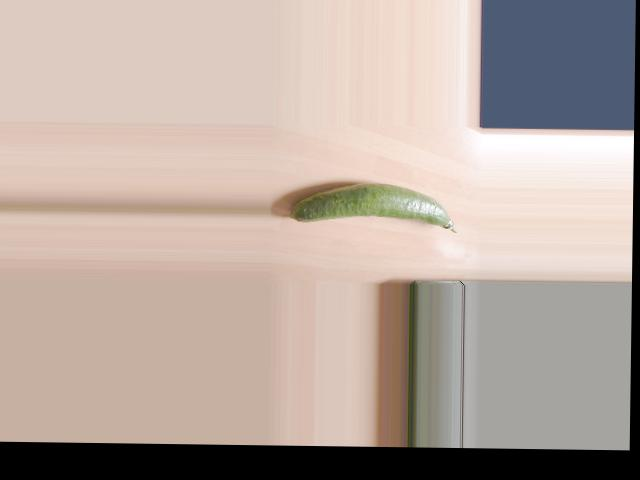cucumber: (288, 180, 458, 232)
